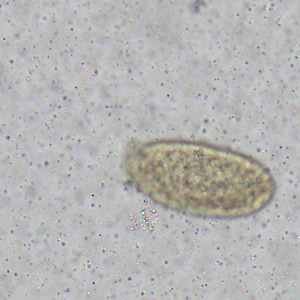Fasciola_hepatica_egg: (127, 138, 276, 219)
